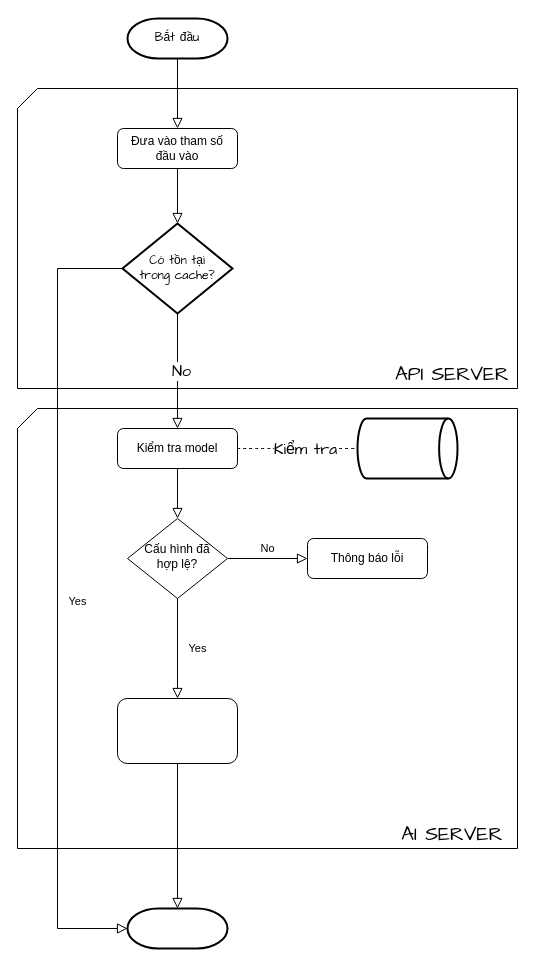
Image size: 535x966. Some labels were removed from this diagram. The shapes that lost their labels are listed below. From the top down, each one's centre as x and y in pixels, then its label:
the point at 407,448: Config
the point at 177,731: Chạy loại model theo cấu hình yêu cầu
the point at 177,928: Kết thúc
